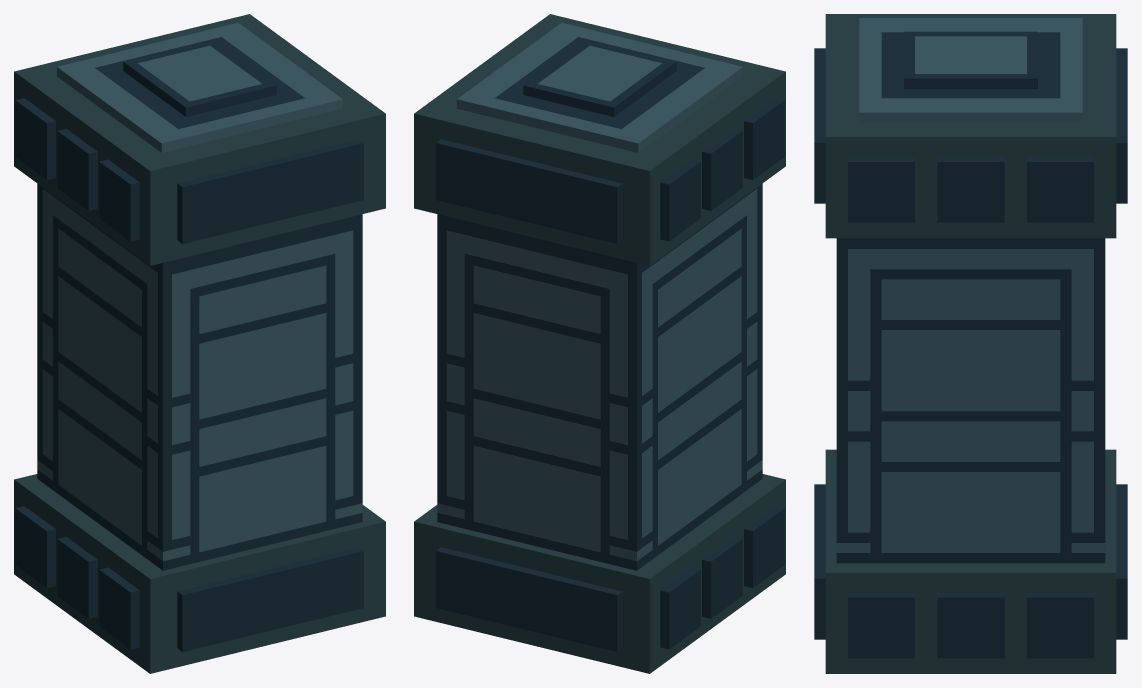
The model's file is pillar_small.fbx.
The picture shows the model from 3 angles, left to right: view 1: azimuth 30°, elevation 25°; view 2: azimuth 150°, elevation 25°; view 3: azimuth 270°, elevation 25°; orthographic projection. The views are drawn at different scales.
Parts seen in each view (by area): view 1: _6; view 2: _6; view 3: _6.
Boxes of the visible parts, box(x1,y1,x2,y2) form: _6: box(14, 14, 385, 673); _6: box(414, 14, 785, 673); _6: box(814, 14, 1127, 673).
Bounding box in the file's own units: 28 × 56 × 28.
